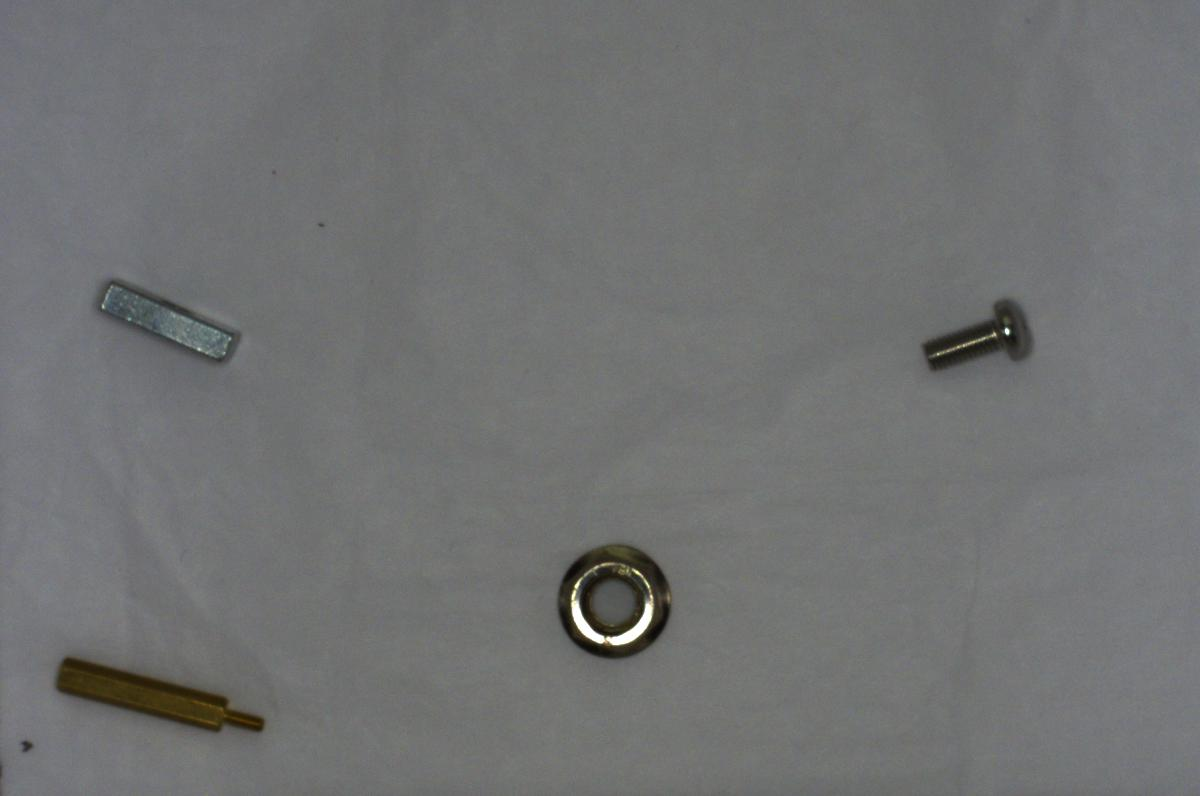Flange nut: (544, 536, 677, 665)
Hexagon pillar: (48, 652, 272, 745)
Rectangular nut: (79, 274, 248, 374)
Round head screw: (919, 293, 1038, 380)
